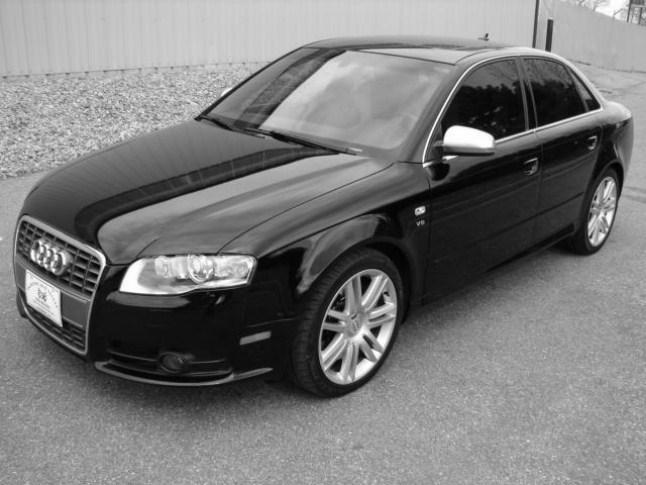car: (9, 36, 632, 399)
